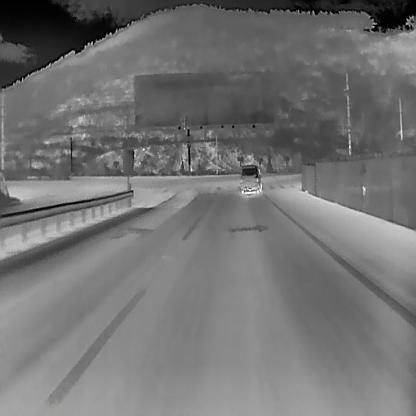car: (240, 164, 261, 195)
